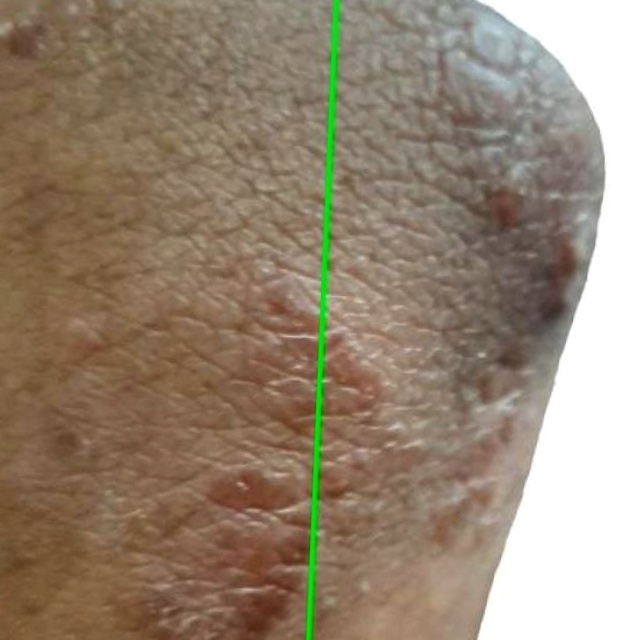Tinea Corporis: (308, 0, 639, 639)
